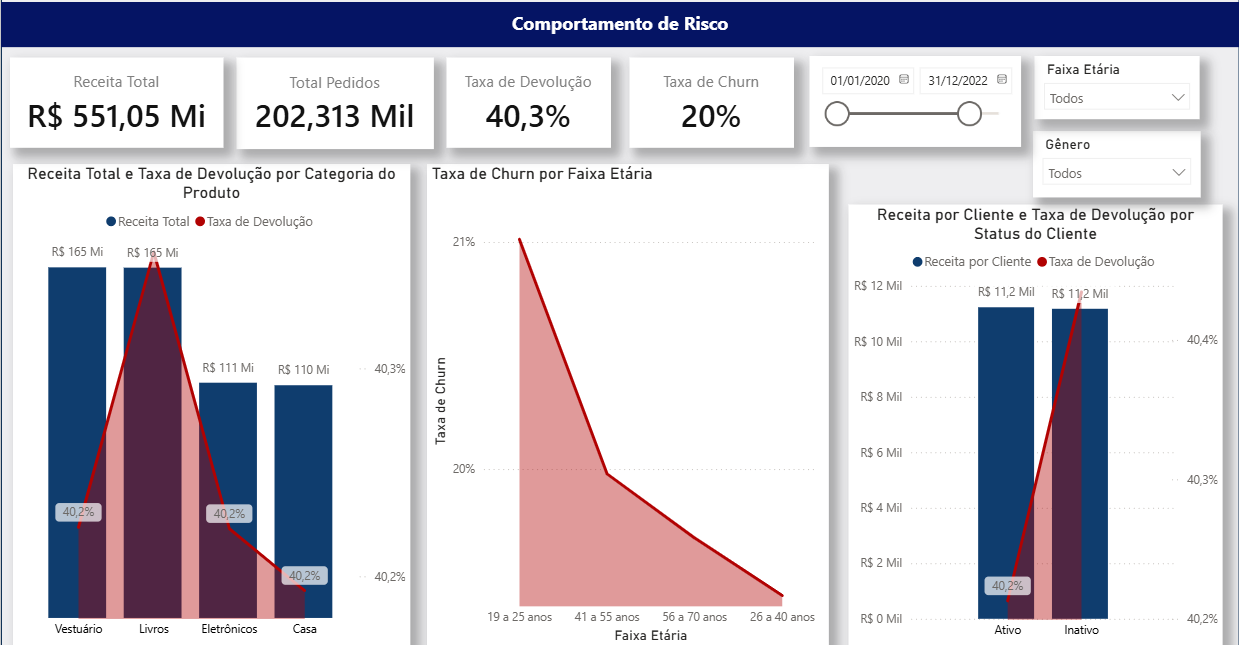

The dashboard page shown, as its layout file describes it:
{"tool":"powerbi","page":{"name":"Comportamento de Risco","canvas":[1280,720],"ordinal":2},"visuals":[{"type":"shape","box":[0,0,1280,719.3],"z":0},{"type":"cardVisual","fields":{"Data":["01 - medidas.Total Pedidos"]},"box":[243.5,58.9,203.9,94.9],"z":1000,"group":"g1"},{"type":"lineClusteredColumnComboChart","fields":{"Category":["02 - Base Tratada.Categoria do Produto"],"Y":["01 - Medida.Receita Total"],"Y2":["01 - Medida.Taxa de Devolução"]},"box":[12.8,170.9,410.5,498.8],"z":1000},{"type":"cardVisual","fields":{"Data":["01 - medidas.Receita Total"]},"box":[9.9,58.9,220.9,93.5],"z":2000,"group":"g1"},{"type":"stackedAreaChart","fields":{"Category":["02 - Base Tratada.Faixa Etária"],"Y":["01 - Medida.Taxa de Churn"]},"box":[440.7,170.9,415.1,498.8],"z":2000},{"type":"textbox","title":" Performance de Vendas e Comportamento do Cliente","box":[0,2.3,1280,46.7],"z":3000,"group":"g1"},{"type":"lineClusteredColumnComboChart","fields":{"Category":["02 - Base Tratada.Status do Cliente"],"Y":["01 - Medida.Receita por Cliente"],"Y2":["01 - Medida.Taxa de Devolução"]},"box":[875.2,212.2,386.7,457.8],"z":3000},{"type":"group","id":"g1","title":"Grupo 1","box":[0,2.3,1280,151.5],"z":6000},{"type":"cardVisual","fields":{"Data":["01 - Medida.Taxa de Devolução"]},"box":[460.5,58.9,169.8,93],"z":8000,"group":"g1"},{"type":"slicer","fields":{"Values":["02 - Base Tratada.Gênero"]},"box":[1066.3,136,173.3,68.6],"z":8000},{"type":"cardVisual","fields":{"Data":["01 - Medida.Taxa de Churn"]},"box":[648.8,58.9,169.8,93],"z":9000,"group":"g1"},{"type":"slicer","fields":{"Values":["02 - Base Tratada.Faixa Etária"]},"box":[1068.6,59.3,170.9,65.1],"z":9000},{"type":"slicer","title":"Ano","fields":{"Values":["02 - Base Tratada.Data da Compra"]},"box":[836,58.1,218.6,94.2],"z":11000}]}

Visuals, with their boxes on the page's 1280x720 design canvas (x1, y1, x2, y2). These are canvas units, not pixel positions in the 1239x645 screenshot, which may show the page scaled, cropped or inside an application window:
shape: 0:0:1280:719
cardVisual - 01 - medidas.Total Pedidos: 244:59:447:154
lineClusteredColumnComboChart - 02 - Base Tratada.Categoria do Produto x 01 - Medida.Receita Total: 13:171:423:670
cardVisual - 01 - medidas.Receita Total: 10:59:231:152
stackedAreaChart - 02 - Base Tratada.Faixa Etária x 01 - Medida.Taxa de Churn: 441:171:856:670
" Performance de Vendas e Comportamento do Cliente" textbox: 0:2:1280:49
lineClusteredColumnComboChart - 02 - Base Tratada.Status do Cliente x 01 - Medida.Receita por Cliente: 875:212:1262:670
"Grupo 1" group: 0:2:1280:154
cardVisual - 01 - Medida.Taxa de Devolução: 460:59:630:152
slicer - 02 - Base Tratada.Gênero: 1066:136:1240:205
cardVisual - 01 - Medida.Taxa de Churn: 649:59:819:152
slicer - 02 - Base Tratada.Faixa Etária: 1069:59:1240:124
"Ano" slicer: 836:58:1055:152
